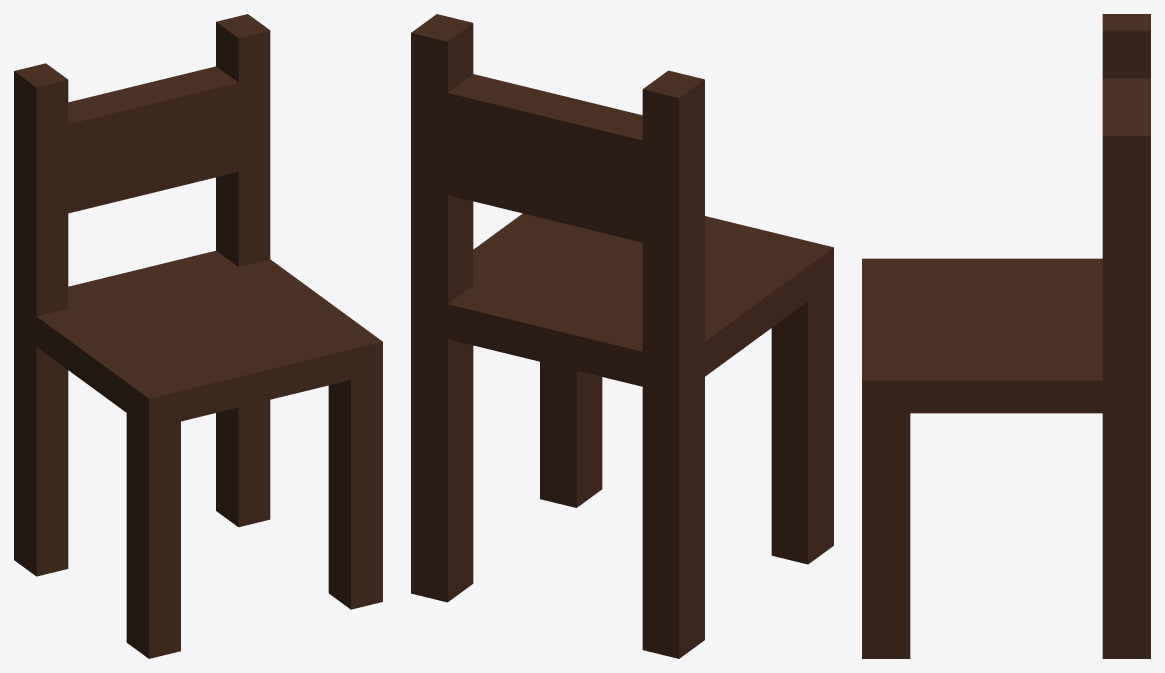
The model's file is KitchenChair.fbx.
The picture shows the model from 3 angles, left to right: view 1: azimuth 30°, elevation 25°; view 2: azimuth 150°, elevation 25°; view 3: azimuth 270°, elevation 25°; orthographic projection. The views are drawn at different scales.
Parts seen in each view (by area): view 1: Cube; view 2: Cube; view 3: Cube.
Boxes of the visible parts, x1,y1,x2,y2 form: Cube: [14, 14, 382, 658]; Cube: [411, 14, 833, 658]; Cube: [862, 14, 1150, 658].
Size of the model in its own units: 200 by 400 by 200.
